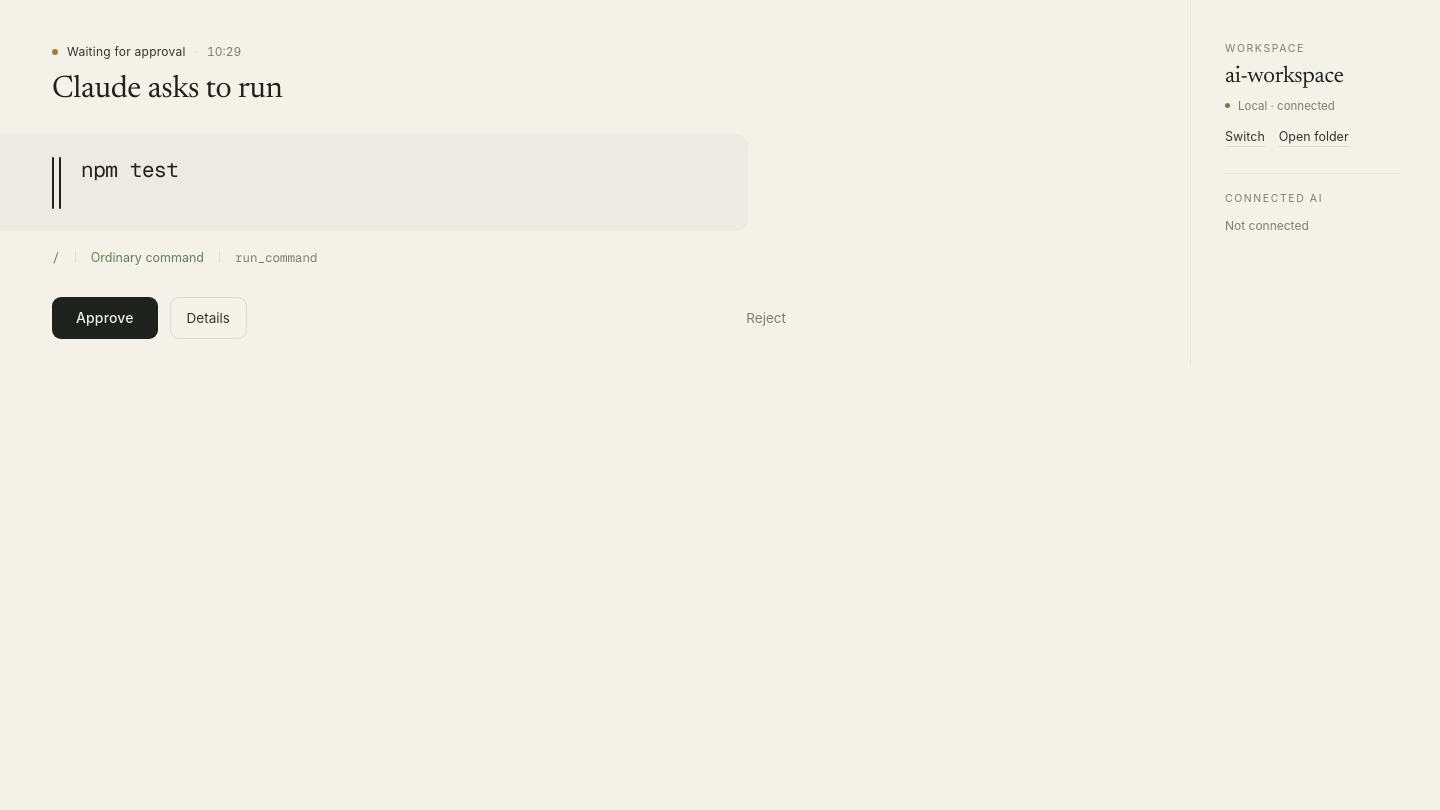
Test case: what the prompt says about the network › states it in the details, not on the face
Click the button "Details": click(208, 318) 170,297 -> 247,339
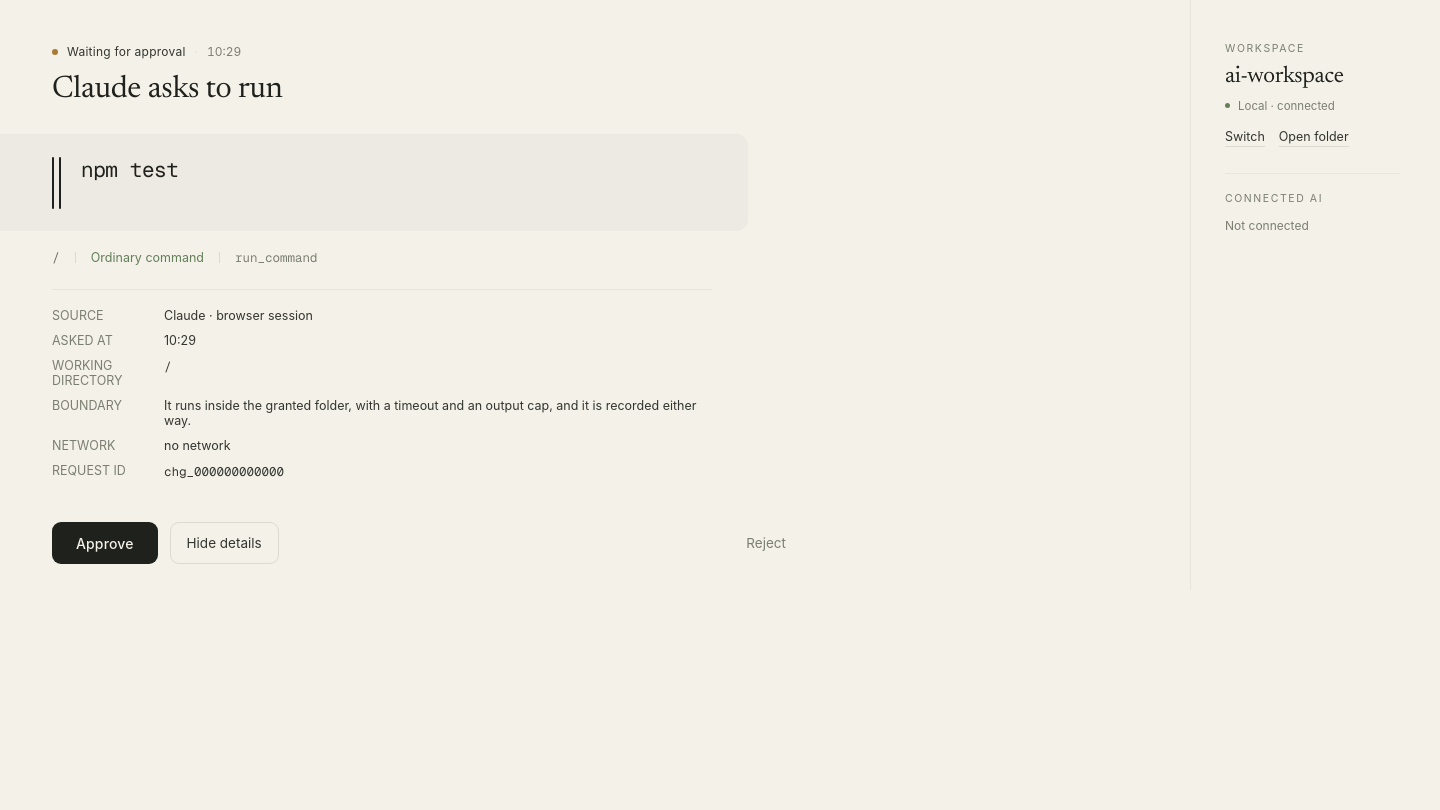
Result: the text "no network" is shown at 164,438 -> 231,453
